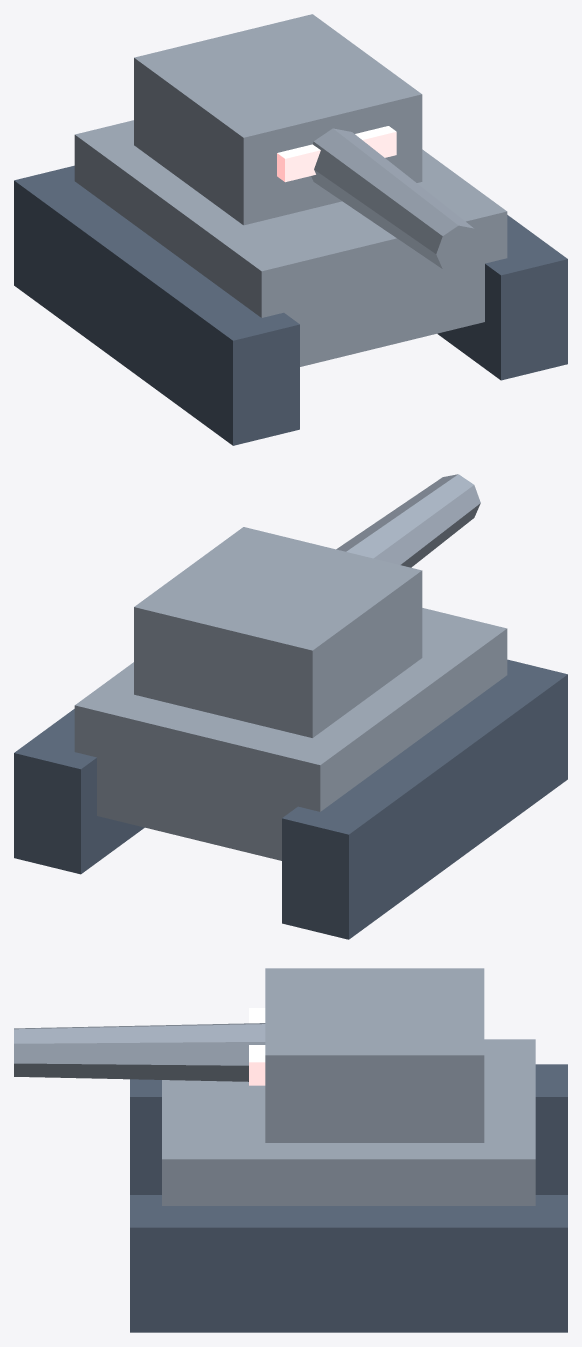
The model's file is armored.glb.
3 renders of one model, top to bottom at view 1: azimuth 30°, elevation 25°; view 2: azimuth 150°, elevation 25°; view 3: azimuth 270°, elevation 25°, orthographic.
Bounding box in the file's own units: 0.6 × 0.41 × 0.86.
